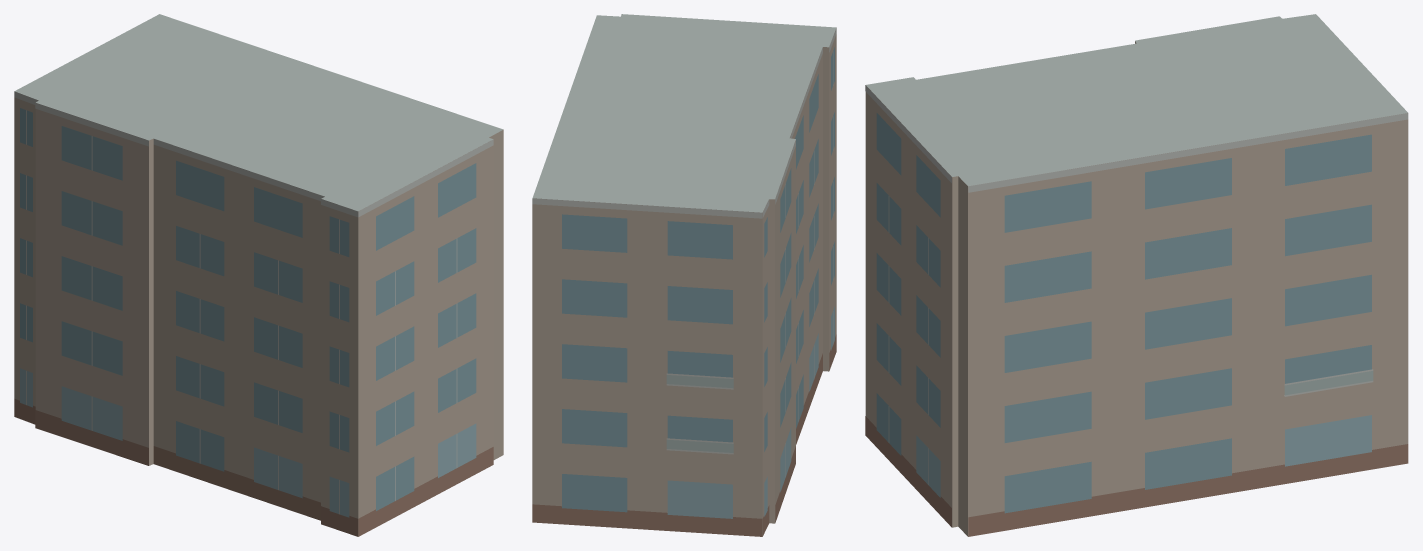
File: survey-upis-32888479.glb
3 views of the same model, side by side, from view 1: azimuth 30°, elevation 25°; view 2: azimuth 150°, elevation 25°; view 3: azimuth 270°, elevation 25° (orthographic). The views are drawn at different scales.
Visible parts, largest first — view 1: survey-upis-32888479.tmp; view 2: survey-upis-32888479.tmp; view 3: survey-upis-32888479.tmp.
Part boxes in pixels (x1,y1,x2,y2): survey-upis-32888479.tmp: (14,14,503,536); survey-upis-32888479.tmp: (532,14,836,536); survey-upis-32888479.tmp: (865,14,1408,536).
Bounding box in the file's own units: 13.82 × 13.1 × 18.39.
